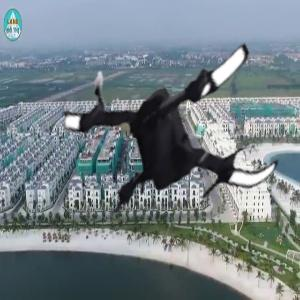drone: (43, 12, 287, 256)
